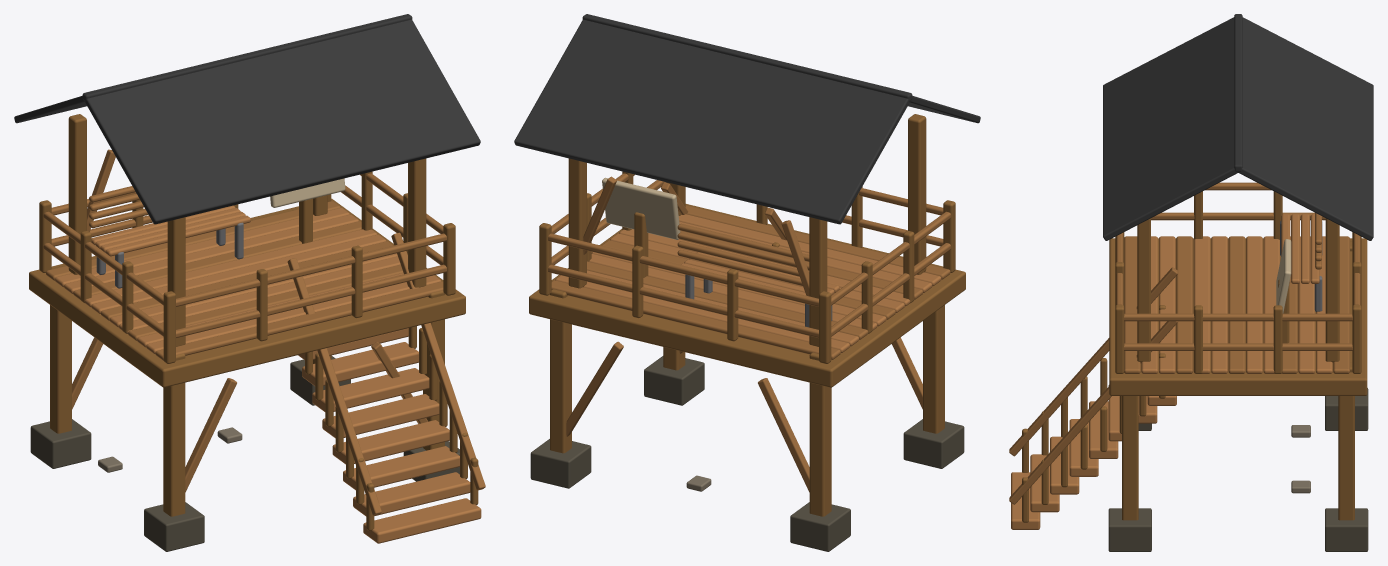
The model's file is observation-deck.glb.
3 views of the same model, side by side, from view 1: azimuth 30°, elevation 25°; view 2: azimuth 150°, elevation 25°; view 3: azimuth 270°, elevation 25° (orthographic). The views are drawn at different scales.
Visible parts, largest first — view 1: observation-deck-farm-roof-slate, observation-deck-farm-wood-dark, observation-deck-farm-wood-light, observation-deck-farm-wood, observation-deck-farm-stone-dark, observation-deck-farm-cloth, observation-deck-farm-metal, observation-deck-farm-stone; view 2: observation-deck-farm-roof-slate, observation-deck-farm-wood-dark, observation-deck-farm-wood, observation-deck-farm-wood-light, observation-deck-farm-stone-dark, observation-deck-farm-cloth; view 3: observation-deck-farm-roof-slate, observation-deck-farm-wood-dark, observation-deck-farm-wood-light, observation-deck-farm-wood, observation-deck-farm-stone-dark, observation-deck-farm-cloth, observation-deck-farm-stone.
Boxes of the visible parts, x1=… form: observation-deck-farm-roof-slate: x1=14, y1=14, x2=480, y2=224; observation-deck-farm-wood-dark: x1=29, y1=114, x2=478, y2=530; observation-deck-farm-wood-light: x1=55, y1=205, x2=481, y2=543; observation-deck-farm-wood: x1=43, y1=149, x2=485, y2=515; observation-deck-farm-stone-dark: x1=30, y1=356, x2=459, y2=551; observation-deck-farm-cloth: x1=270, y1=178, x2=345, y2=207; observation-deck-farm-metal: x1=96, y1=222, x2=243, y2=288; observation-deck-farm-stone: x1=98, y1=427, x2=242, y2=472; observation-deck-farm-roof-slate: x1=514, y1=14, x2=980, y2=224; observation-deck-farm-wood-dark: x1=529, y1=114, x2=965, y2=516; observation-deck-farm-wood: x1=548, y1=173, x2=951, y2=492; observation-deck-farm-wood-light: x1=555, y1=214, x2=941, y2=352; observation-deck-farm-stone-dark: x1=530, y1=356, x2=964, y2=551; observation-deck-farm-cloth: x1=602, y1=177, x2=680, y2=239; observation-deck-farm-roof-slate: x1=1103, y1=14, x2=1373, y2=240; observation-deck-farm-wood-dark: x1=1022, y1=191, x2=1367, y2=522; observation-deck-farm-wood-light: x1=1011, y1=214, x2=1332, y2=529; observation-deck-farm-wood: x1=1009, y1=182, x2=1360, y2=504; observation-deck-farm-stone-dark: x1=1108, y1=388, x2=1368, y2=551; observation-deck-farm-cloth: x1=1276, y1=239, x2=1291, y2=313; observation-deck-farm-stone: x1=1291, y1=425, x2=1310, y2=493.
Bounding box in the file's own units: 5.16 × 6.22 × 5.23.
